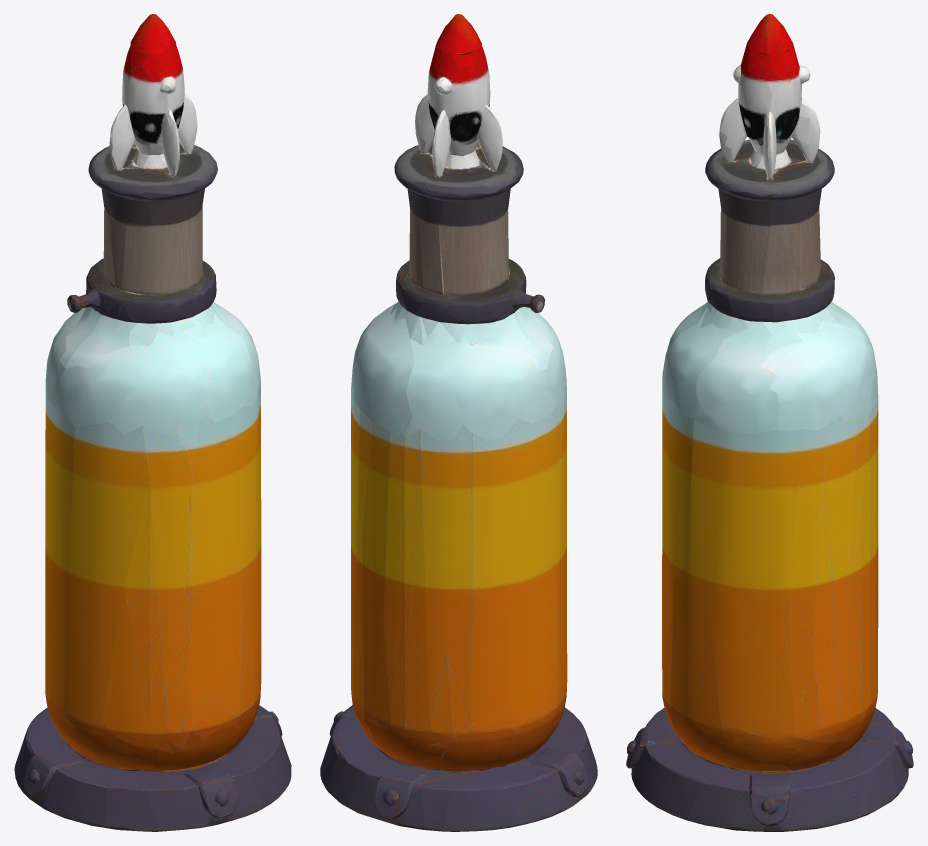
File: powerup-fuel.lod.glb
3 renders of one model, left to right at view 1: azimuth 30°, elevation 25°; view 2: azimuth 150°, elevation 25°; view 3: azimuth 270°, elevation 25°, orthographic.
Size of the model in its own units: 0.6514 by 1.9 by 0.6516.
Materials: 1 (1 with a texture image).
